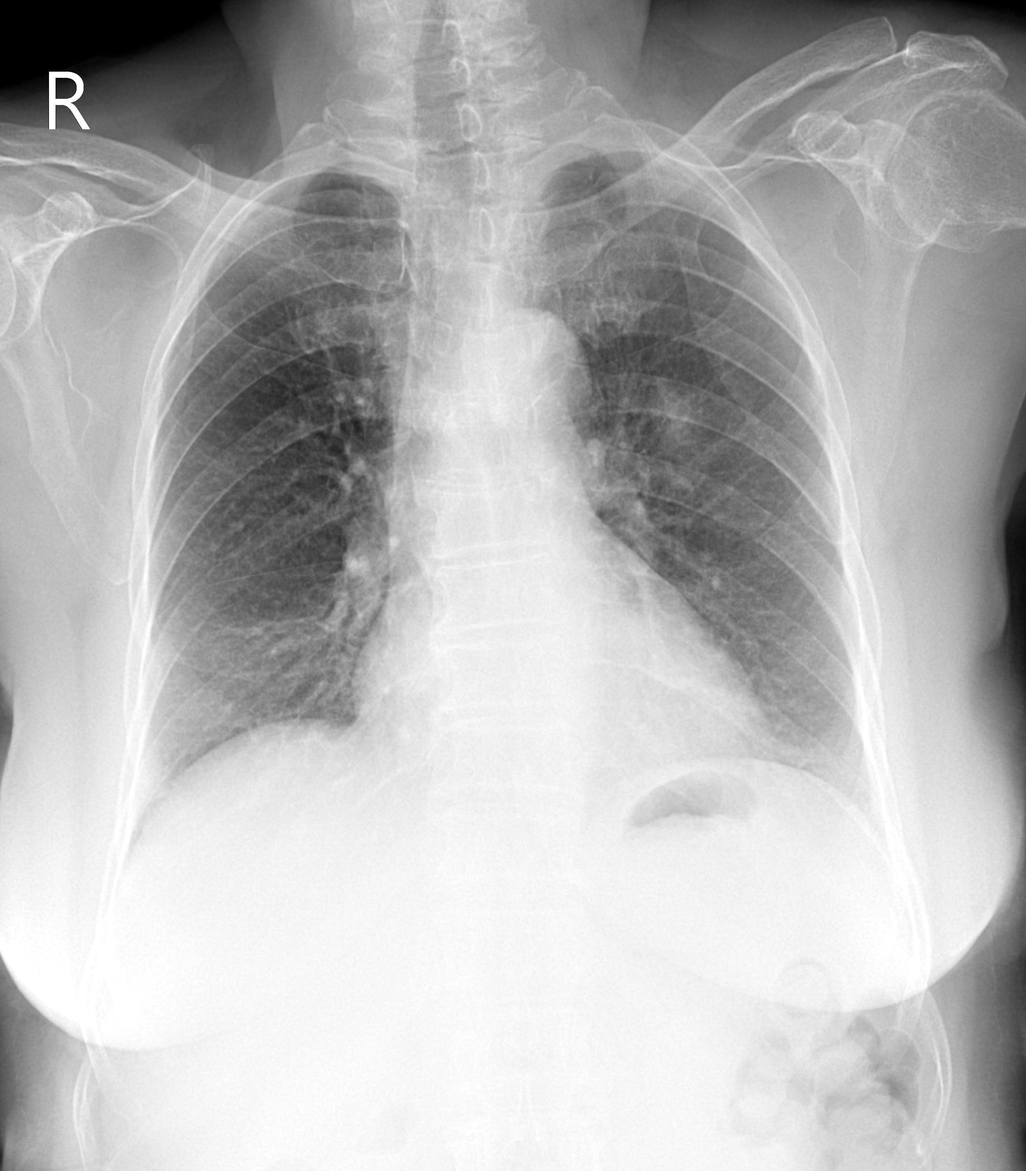Aortic enlargement: (485, 309, 592, 462)
Cardiomegaly: (346, 603, 767, 781)
